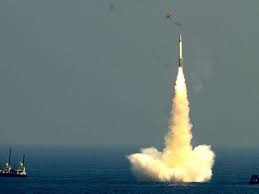ten_lua: (176, 29, 187, 85)
